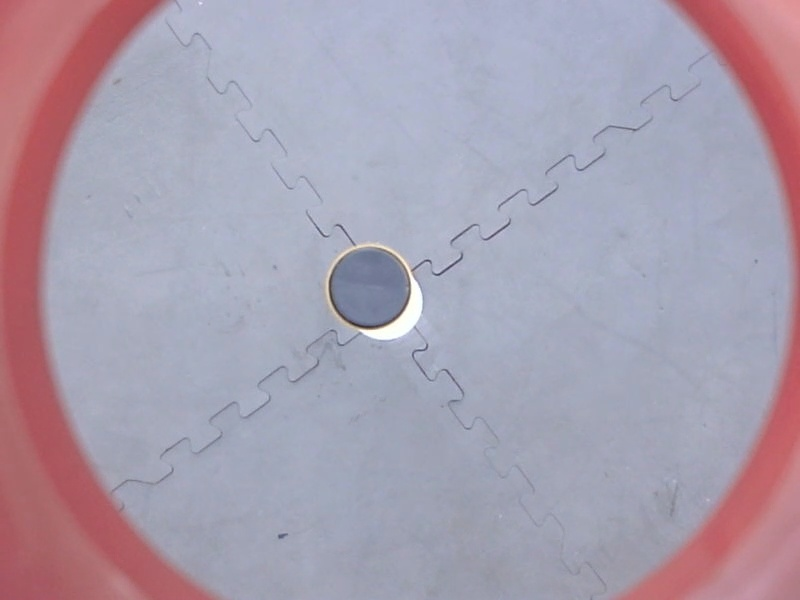tip: (319, 239, 420, 334)
